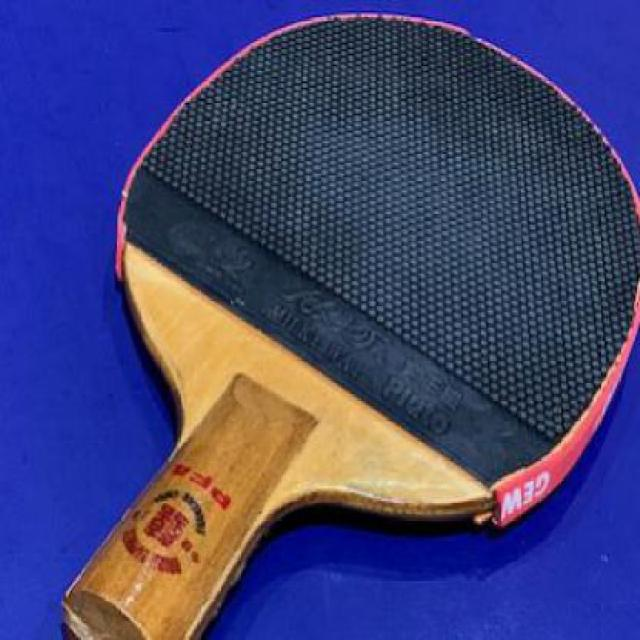table_tennis_racket: (116, 8, 635, 514)
